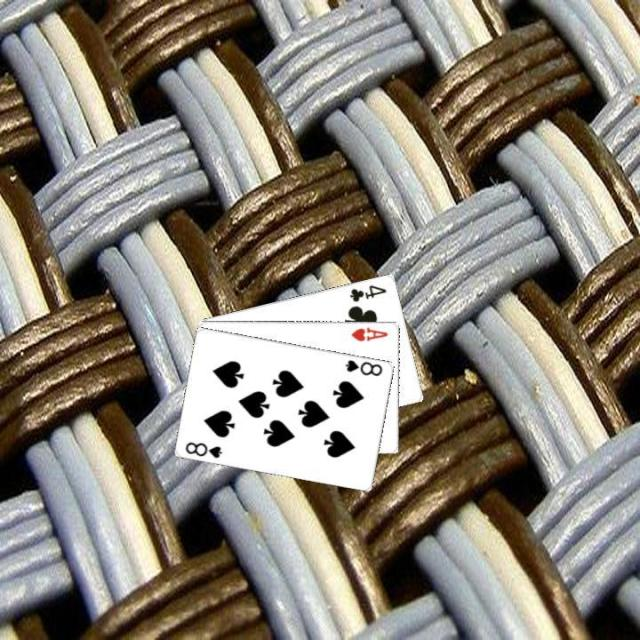4C: (346, 281, 388, 303)
8S: (341, 356, 385, 378), (181, 438, 224, 460)
AH: (348, 324, 390, 343)
